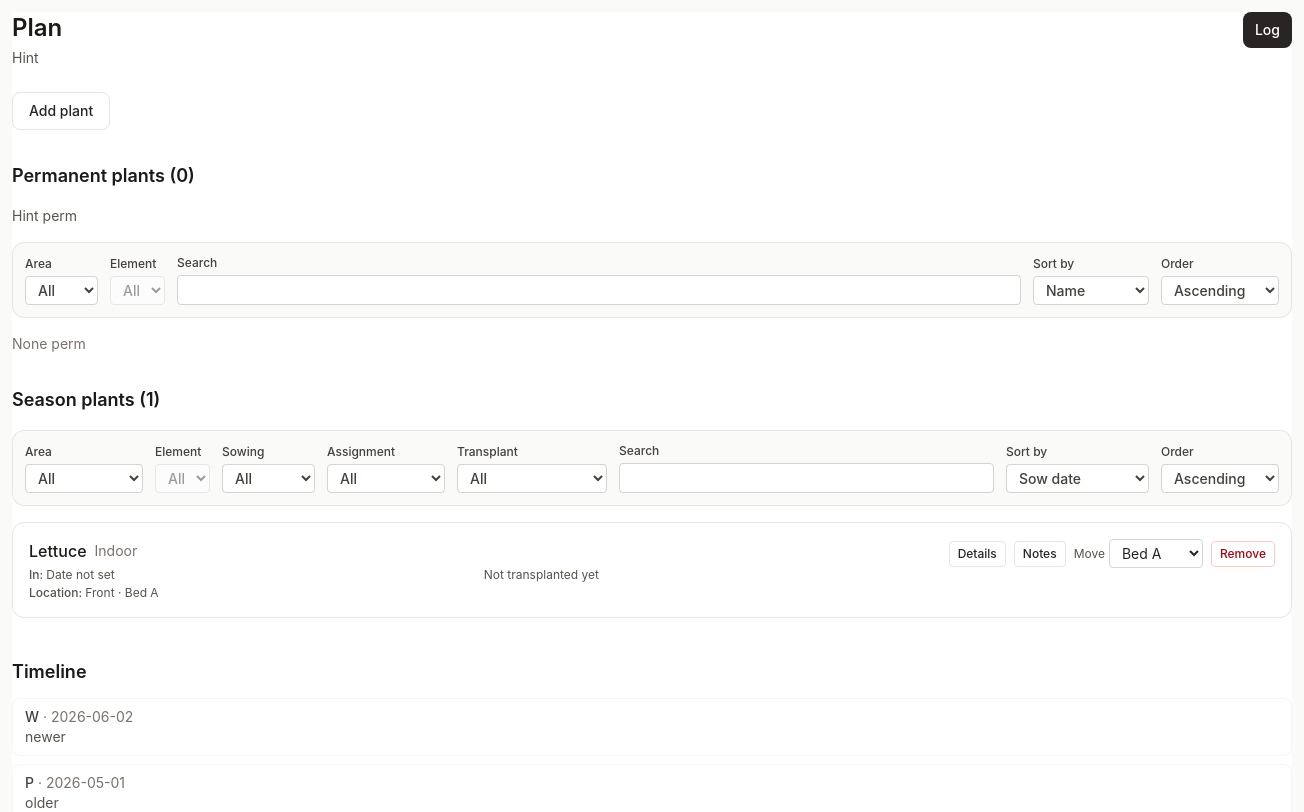
Test: PlantingPlanPage › shows plantings grouped by area and element, timeline order, and sowing method fields
Expected: the element with test id "season-plant-inventory" is shown, x1=12 y1=386 x2=1292 y2=618
Expected: the element with test id "season-plant-inventory" shows "Season plants (1)", x1=12 y1=389 x2=160 y2=410
Click the button with test id "add-plant-expand". click: [61, 111]
box: x1=12 y1=92 x2=110 y2=130
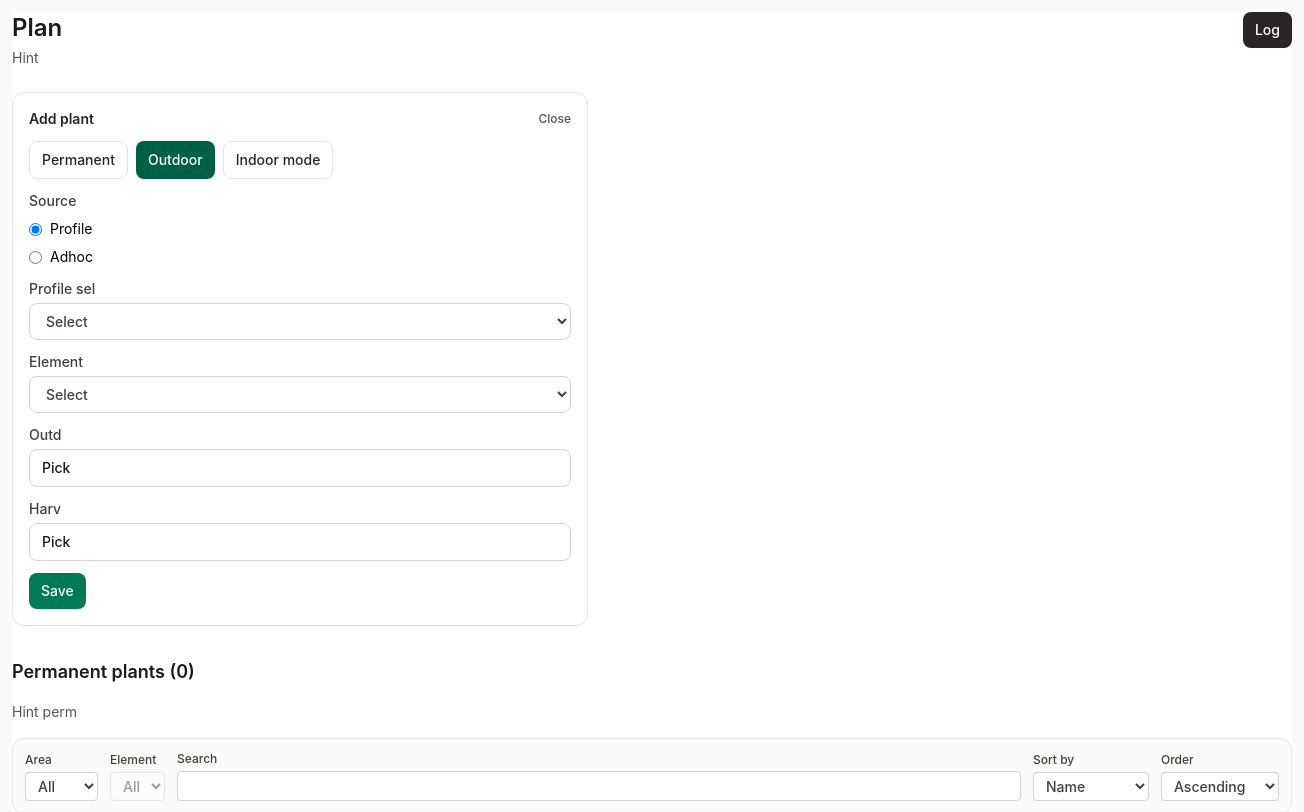
Click the button with test id "plan-mode-indoor". click: [278, 160]
box: x1=223 y1=141 x2=333 y2=179
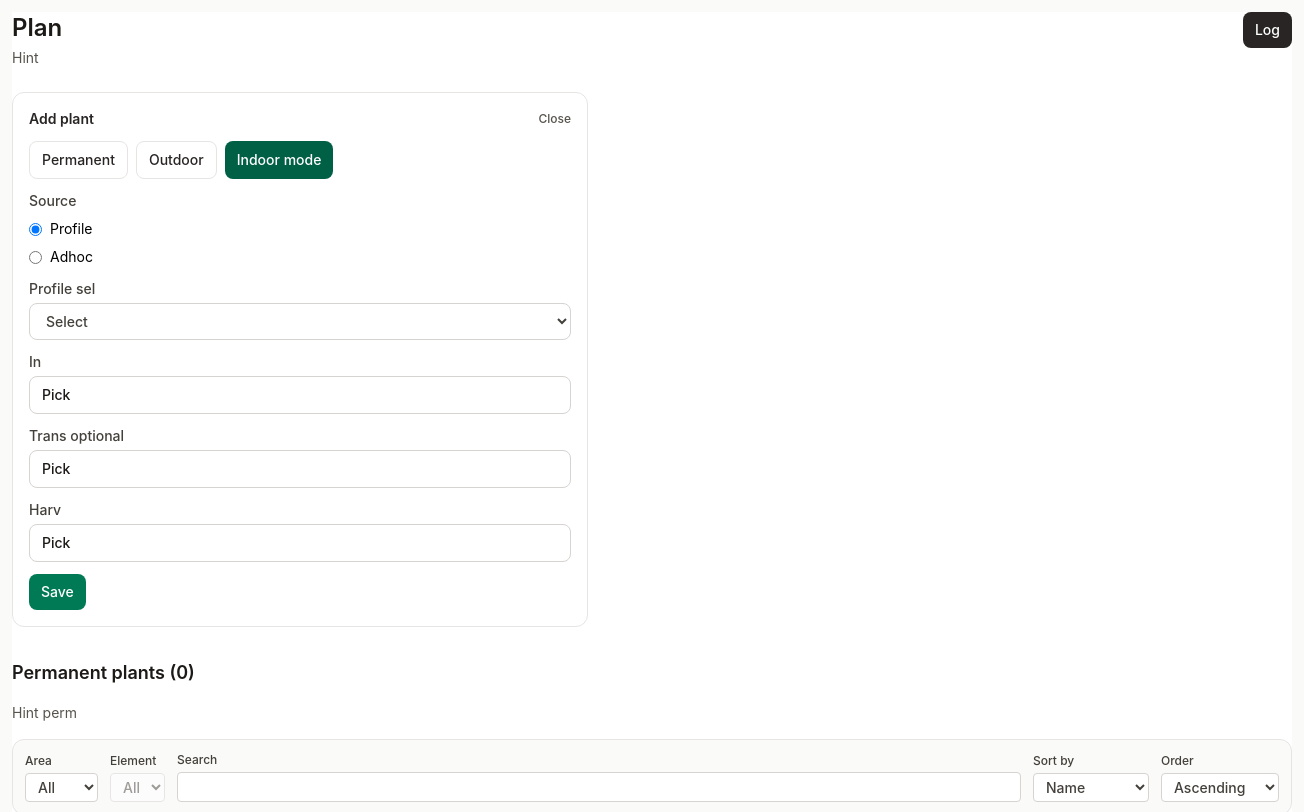
Now the element with test id "indoor-sow-date" is shown, box x1=29 y1=376 x2=571 y2=414
Now the element with test id "transplant-date" is shown, box x1=29 y1=450 x2=571 y2=488
Now the element with test id "outdoor-sow-date" is gone
Click the button with test id "plan-mode-outdoor". click: [176, 160]
box: x1=136 y1=141 x2=217 y2=179
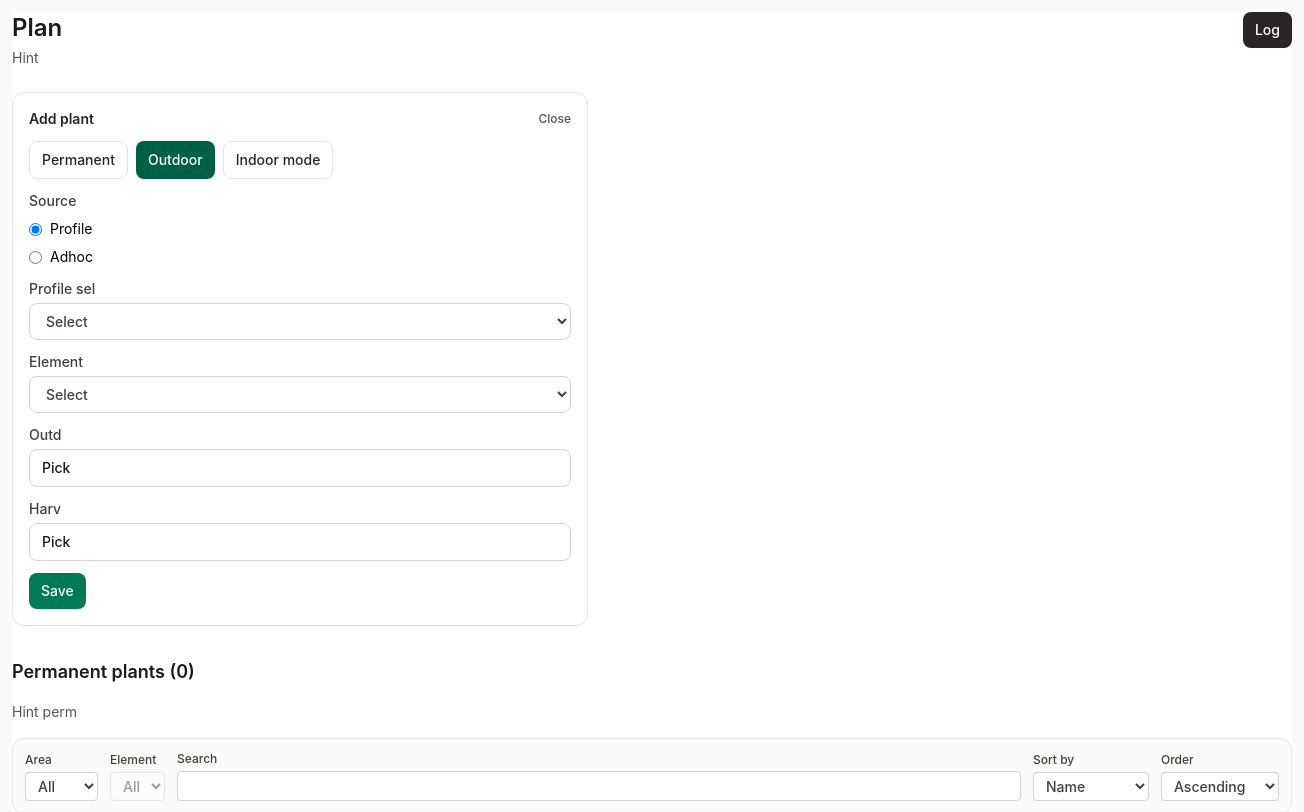
Now the element with test id "outdoor-sow-date" is shown, box x1=29 y1=449 x2=571 y2=487
Now the element with test id "indoor-sow-date" is gone
Now the dropdown with test id "add-form-element" is shown, box x1=29 y1=376 x2=571 y2=413
